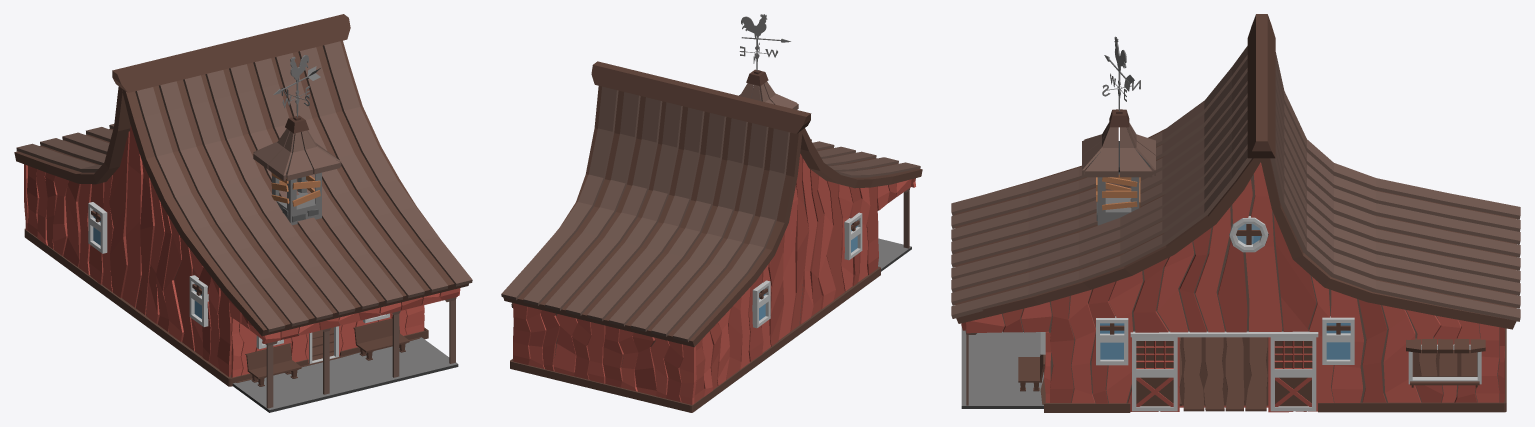
File: Farm_farm.glb
3 renders of one model, left to right at view 1: azimuth 30°, elevation 25°; view 2: azimuth 150°, elevation 25°; view 3: azimuth 270°, elevation 25°, orthographic. The views are drawn at different scales.
Visible parts, largest first — view 1: Cube.014; view 2: Cube.014; view 3: Cube.014.
Part boxes in pixels (<box>): Cube.014: <box>14,14,472,412</box>; Cube.014: <box>501,14,922,412</box>; Cube.014: <box>951,14,1520,412</box>.
Bounding box in the file's own units: 15.11 × 17.63 × 28.54.
Materials: 1 (1 with a texture image).
